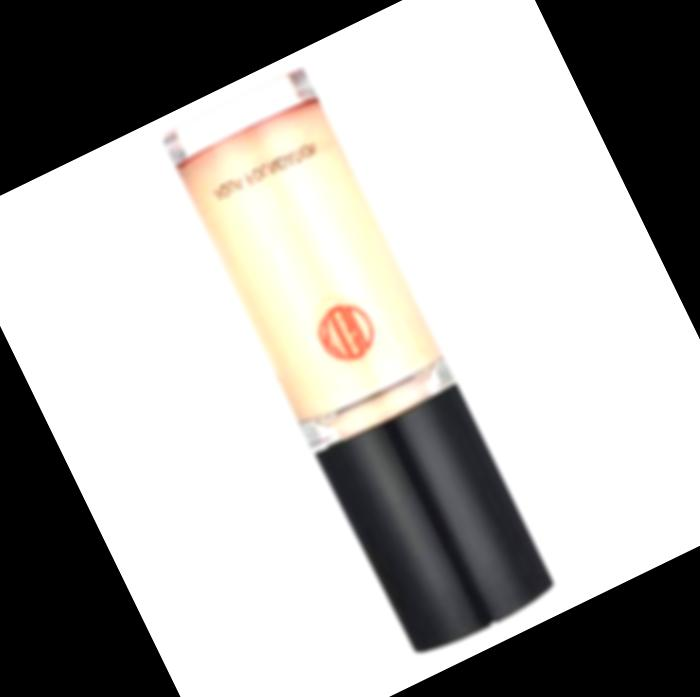cosmetic: (155, 59, 563, 662)
